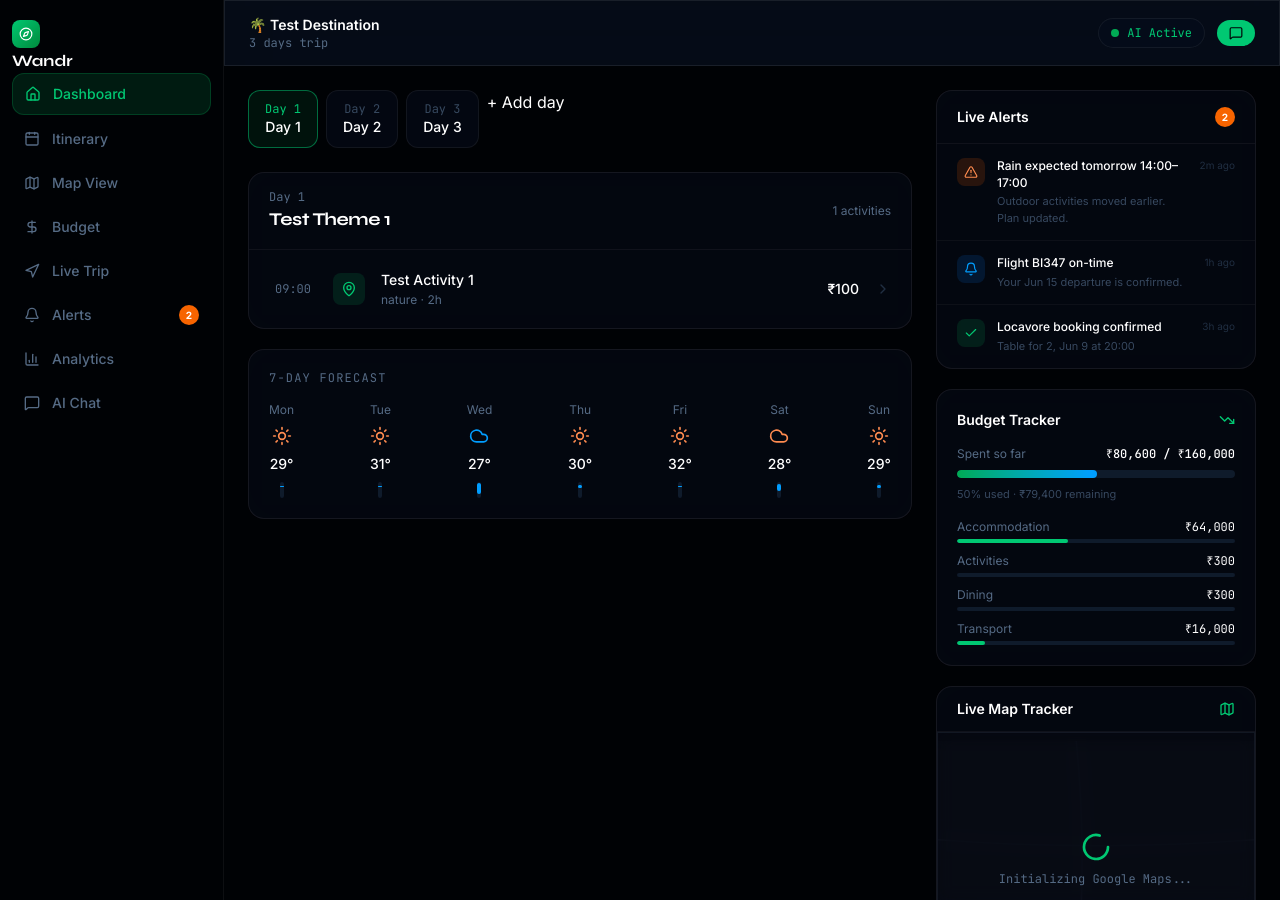
Dashboard › can send a chat message
// Open chat
Click the button named "Ask Wandr AI concierge": (1236, 33) [1217,20,1255,46]
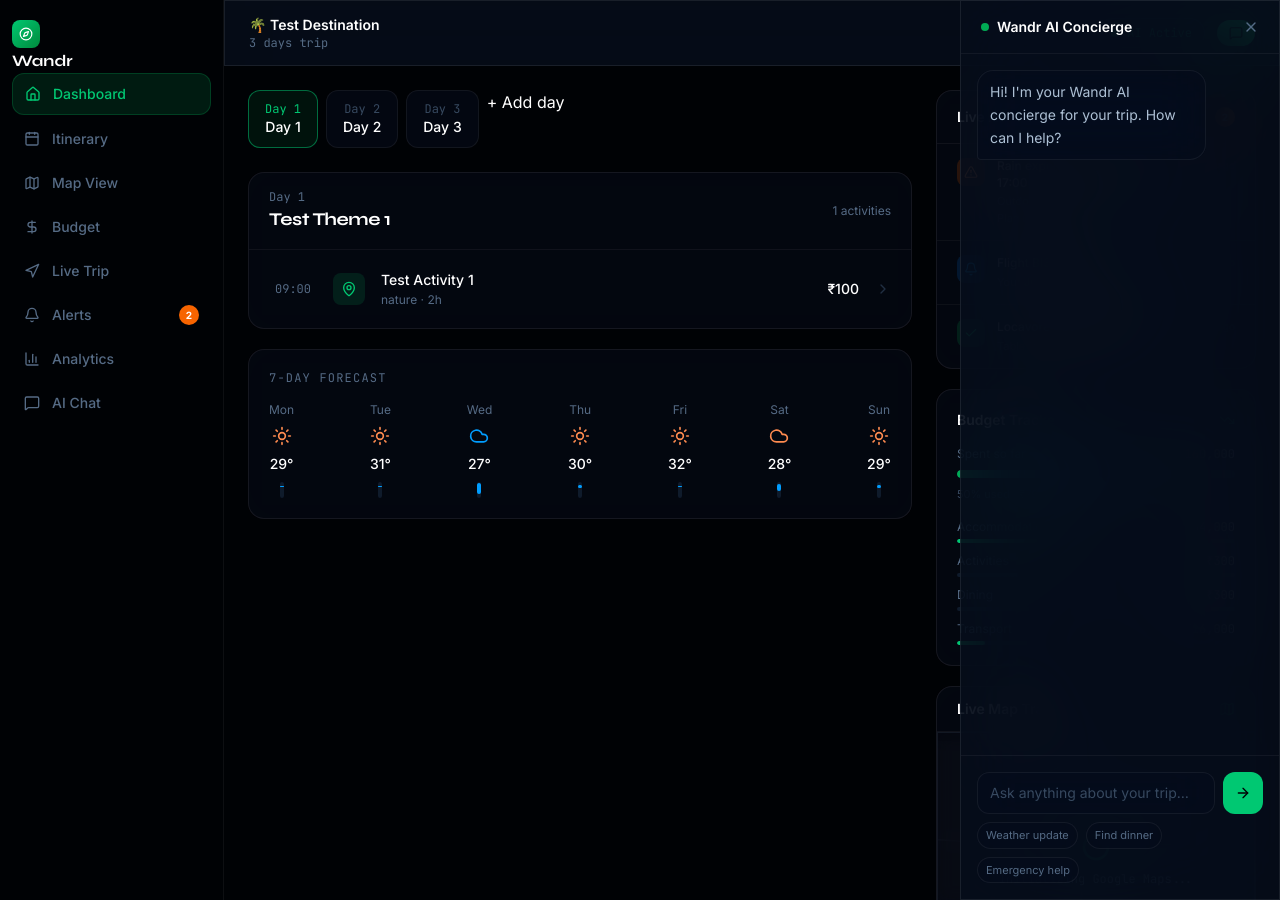
// Type a message
In the field with placeholder "Ask anything about your trip…": (1096, 793) [977,772,1215,814], type "Hello AI"
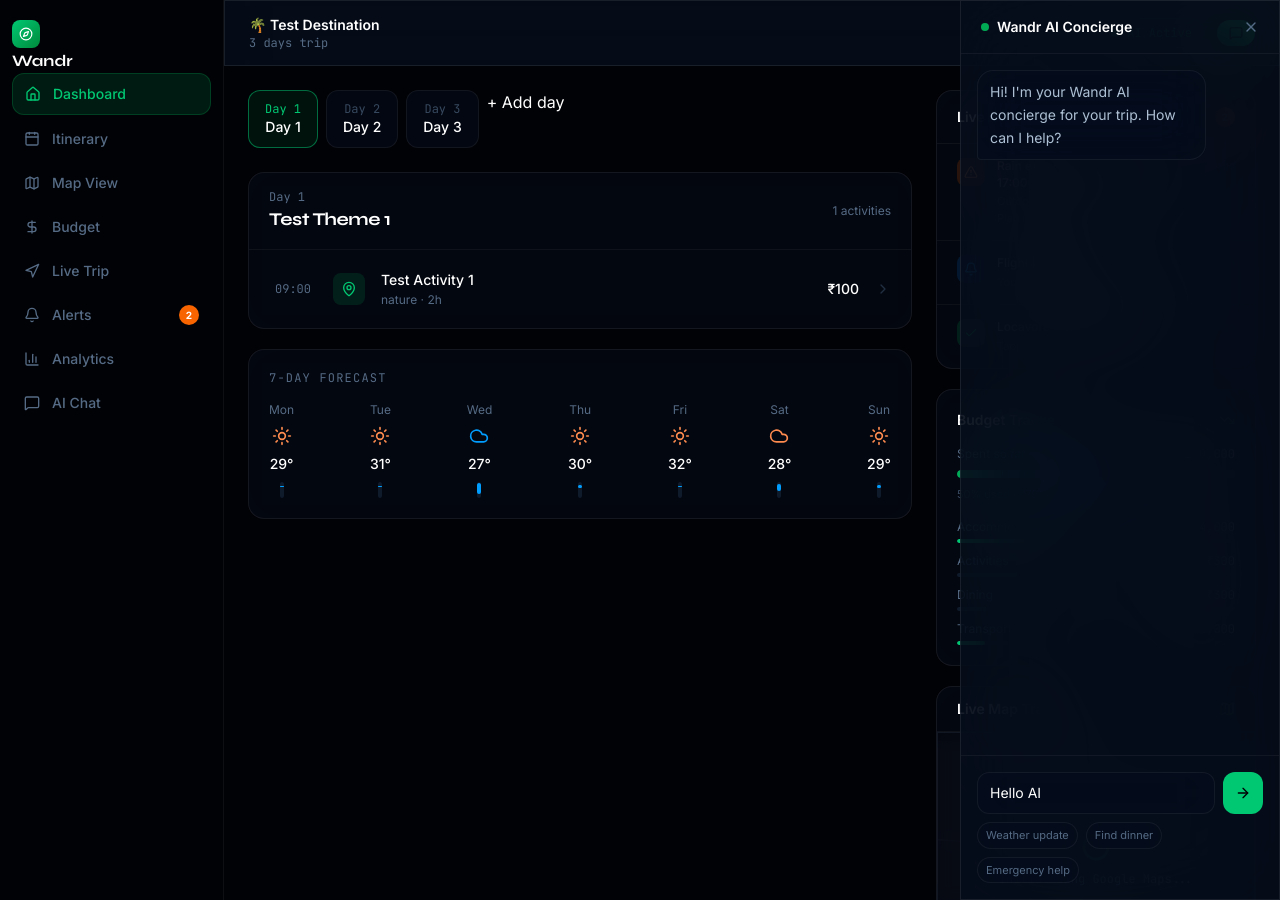
Press Enter in the field with placeholder "Ask anything about your trip…", box [977,772,1215,814]
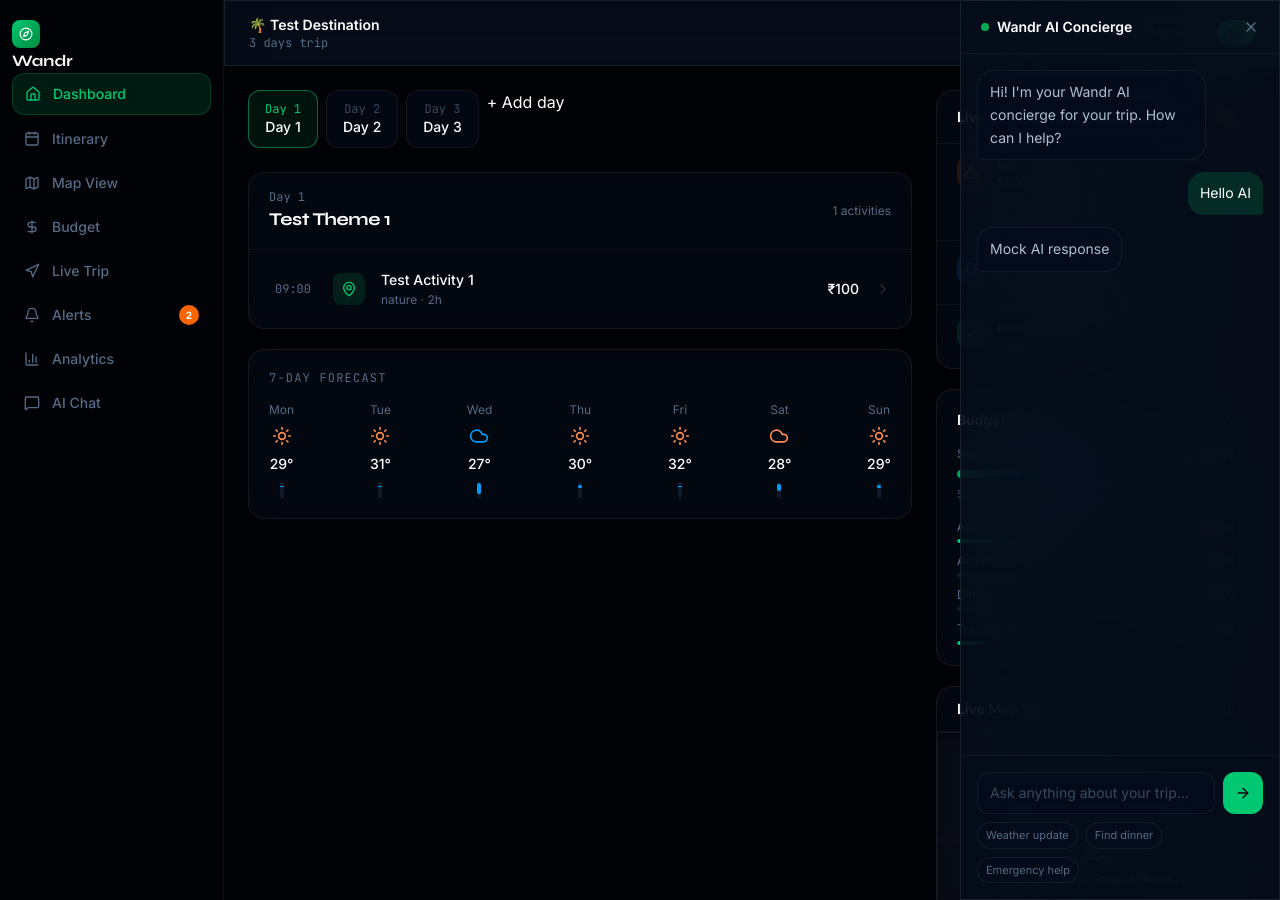
Expected: the text "Hello AI" is shown, [1188,172,1263,215]
Expected: the text "Mock AI response" is shown, [977,227,1122,272]
